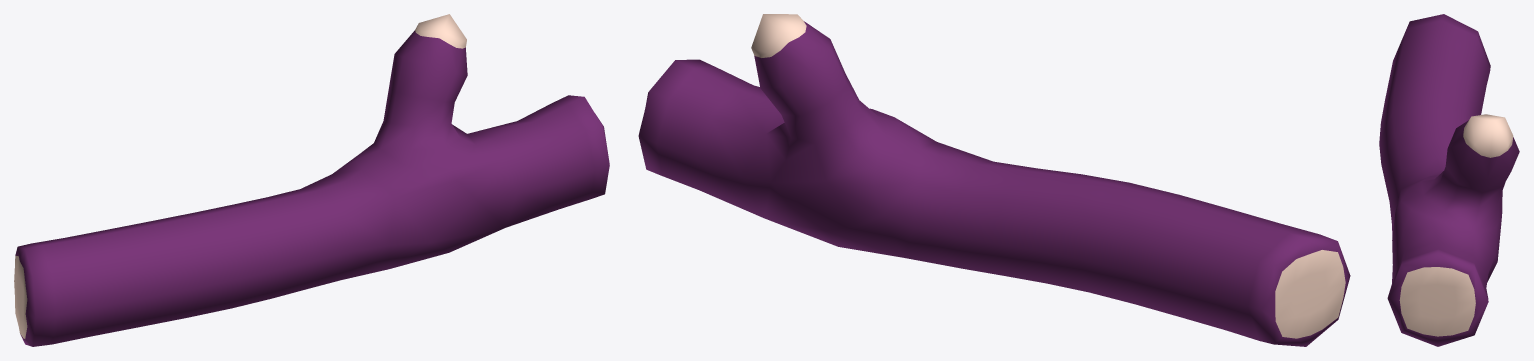
Rendered from Log.glb.
The picture shows the model from 3 angles, left to right: view 1: azimuth 30°, elevation 25°; view 2: azimuth 150°, elevation 25°; view 3: azimuth 270°, elevation 25°; orthographic projection. The views are drawn at different scales.
Parts seen in each view (by area): view 1: Cube; view 2: Cube; view 3: Cube.
Part boxes in pixels (box(x1,y1,x2,y2)): Cube: box(14, 14, 609, 346); Cube: box(638, 14, 1350, 346); Cube: box(1379, 14, 1519, 346).
Bounding box in the file's own units: 5.57 × 1.87 × 1.23.
